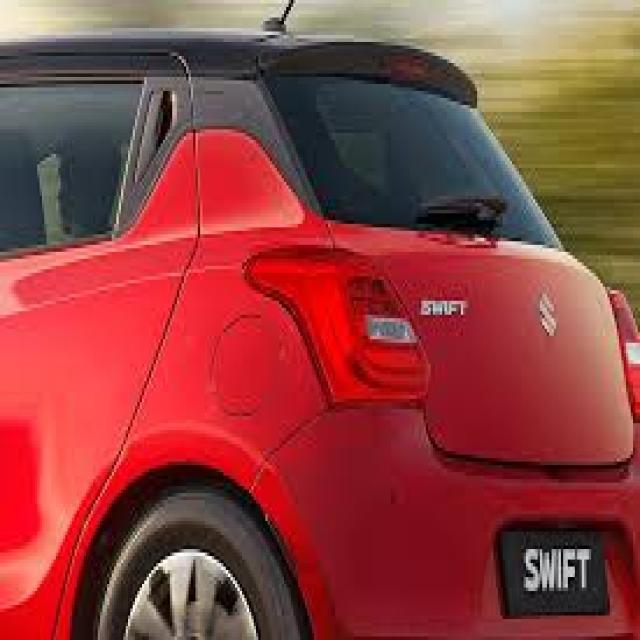Car: (0, 30, 640, 638)
